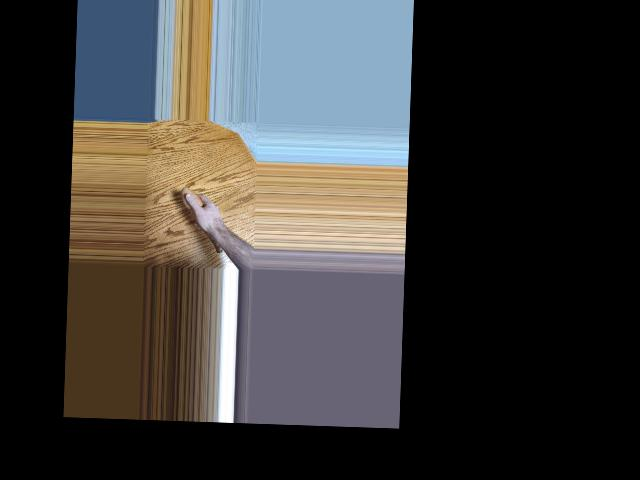sweet_potato: (179, 186, 228, 255)
